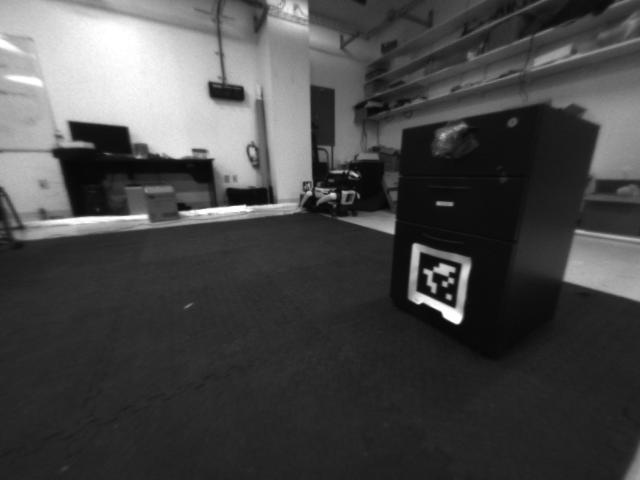drawer: (424, 117, 478, 165)
